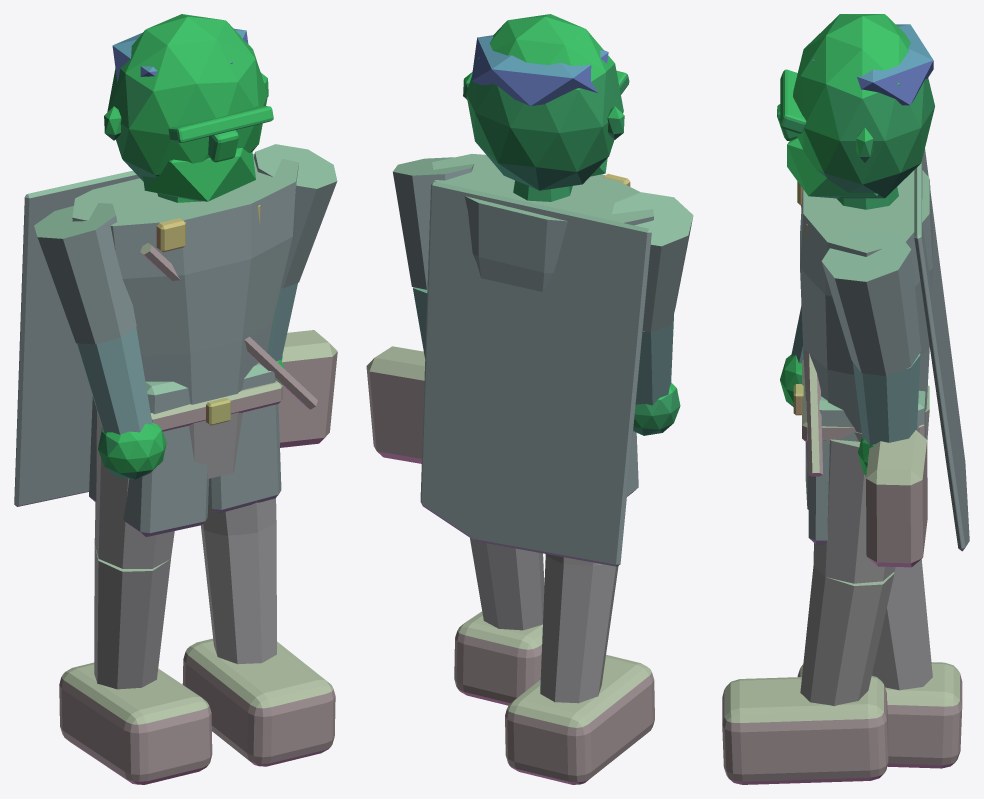
File: npc_wayfarer_up_l_v01.glb
3 views of the same model, side by side, from view 1: azimuth 30°, elevation 25°; view 2: azimuth 150°, elevation 25°; view 3: azimuth 270°, elevation 25° (orthographic). The views are drawn at different scales.
Visible parts, largest first — view 1: GEO_npc_wayfarer_up_l_v01; view 2: GEO_npc_wayfarer_up_l_v01; view 3: GEO_npc_wayfarer_up_l_v01.
Part boxes in pixels (box(x1,y1,x2,y2)): GEO_npc_wayfarer_up_l_v01: box(14, 14, 337, 784); GEO_npc_wayfarer_up_l_v01: box(366, 14, 693, 784); GEO_npc_wayfarer_up_l_v01: box(722, 14, 969, 784).
Size of the model in its own units: 0.9017 by 2.07 by 0.6114.
